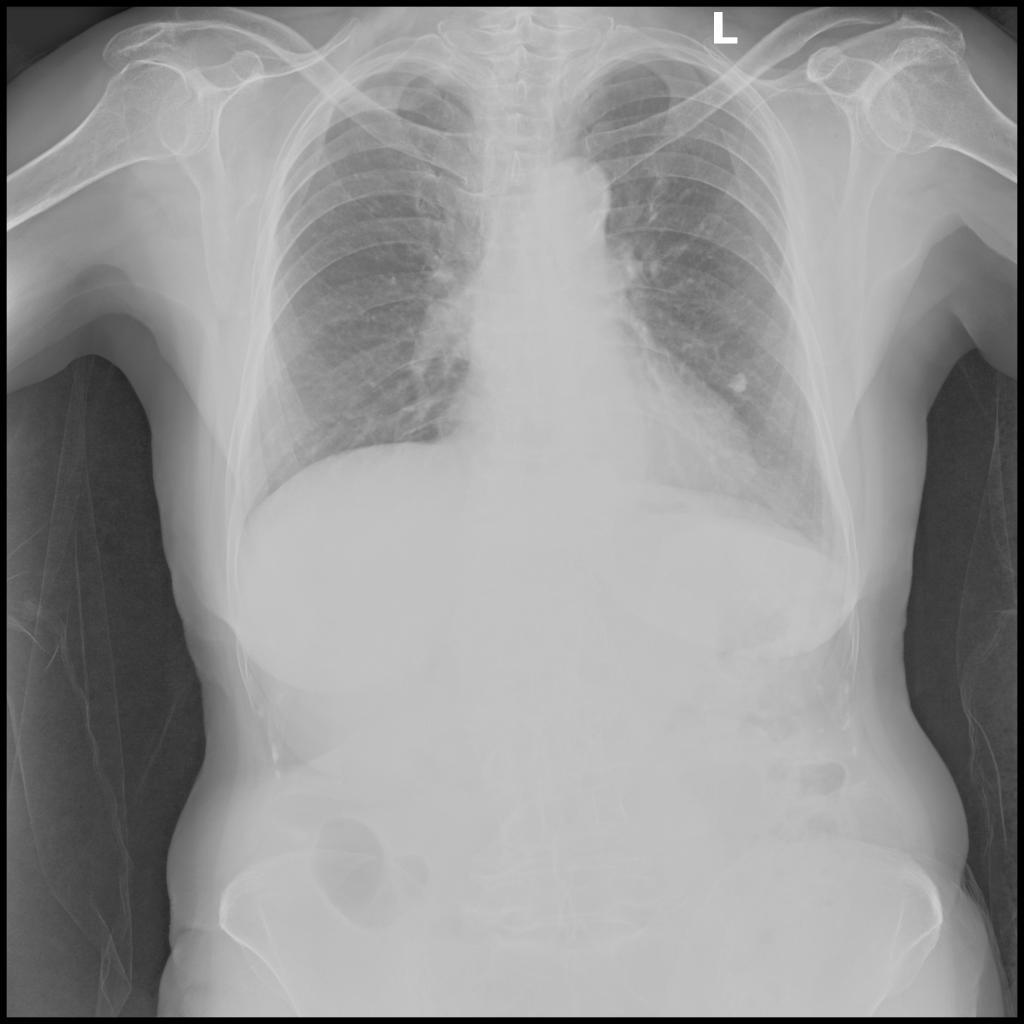Nodule: (728, 371, 747, 398)
